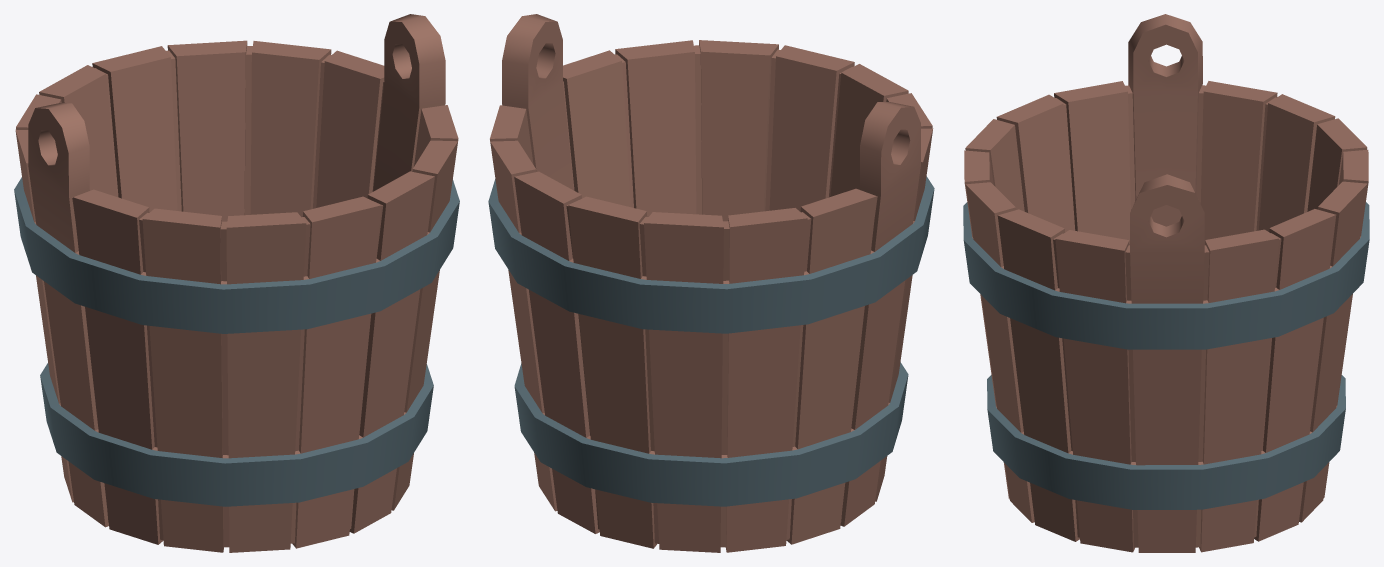
File: toilet.fantasy.fbx
3 views of the same model, side by side, from view 1: azimuth 30°, elevation 25°; view 2: azimuth 150°, elevation 25°; view 3: azimuth 270°, elevation 25° (orthographic). The views are drawn at different scales.
Parts seen in each view (by area): view 1: Cylinder; view 2: Cylinder; view 3: Cylinder.
Part boxes in pixels (x1,y1,x2,y2): Cylinder: (14, 14, 459, 552); Cylinder: (488, 14, 934, 552); Cylinder: (963, 14, 1369, 552).
Bounding box in the file's own units: 30.55 × 32.09 × 30.55.
